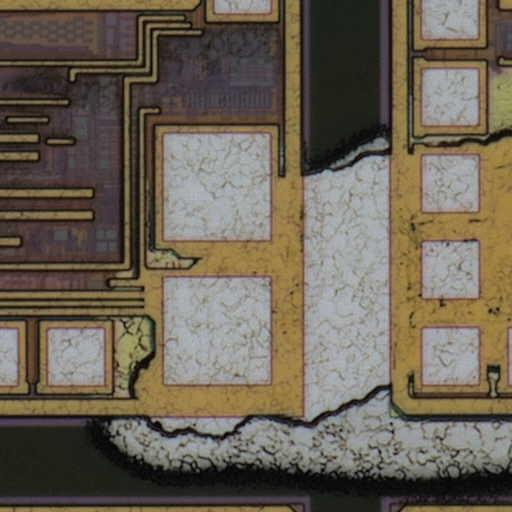BLOCK ETCH: (67, 52, 512, 507)
